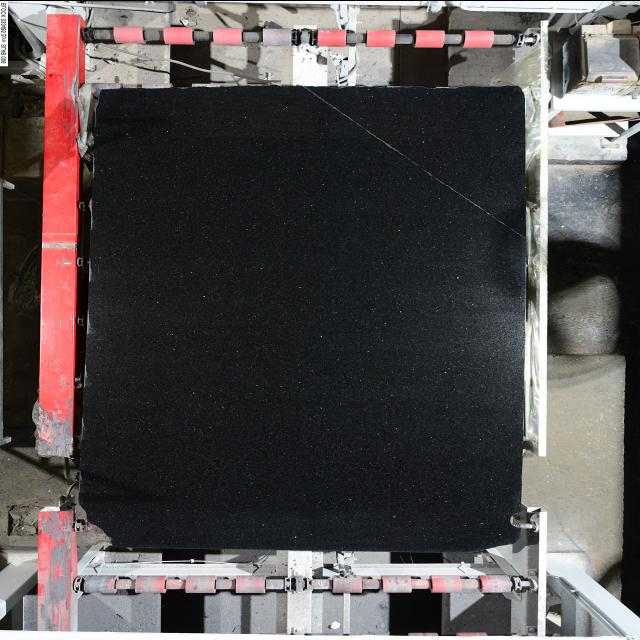chapa: (81, 85, 527, 551)
veio: (504, 507, 534, 532)
